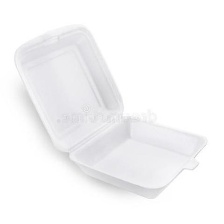foam_box: (9, 18, 211, 204)
